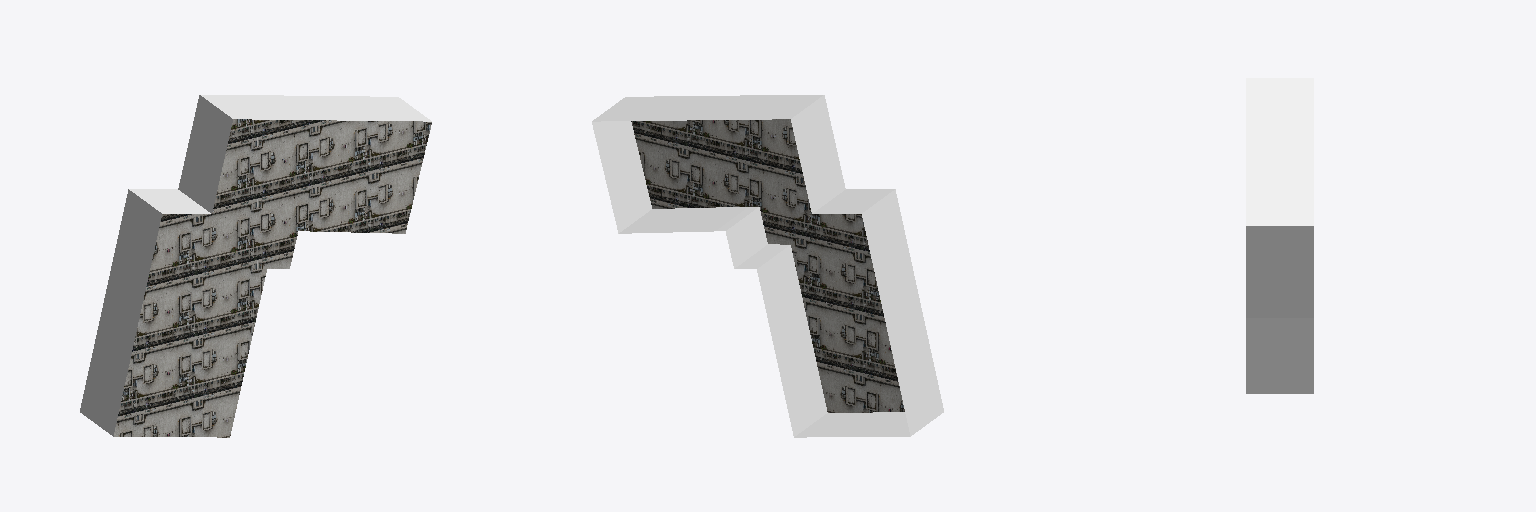
3 renders of one model, left to right at view 1: azimuth 30°, elevation 25°; view 2: azimuth 150°, elevation 25°; view 3: azimuth 270°, elevation 25°, orthographic.
Visible parts, largest first — view 1: Building; view 2: Building; view 3: Building.
Part boxes in pixels (x1,y1,x2,y2): Building: (80, 95, 431, 437); Building: (592, 95, 943, 437); Building: (1246, 78, 1313, 393).
Bounding box in the file's own units: 32.64 × 31.05 × 6.
2 materials, 1 textured.